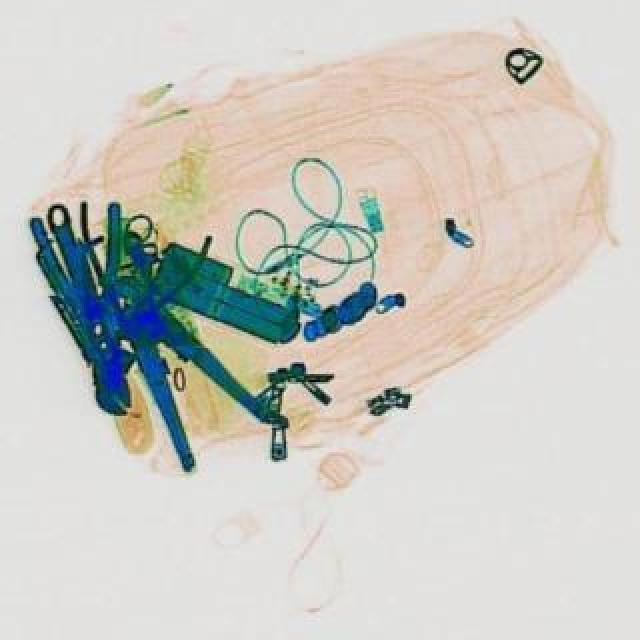scissors: (38, 204, 142, 424)
wrench: (86, 284, 282, 482), (54, 204, 222, 372)
